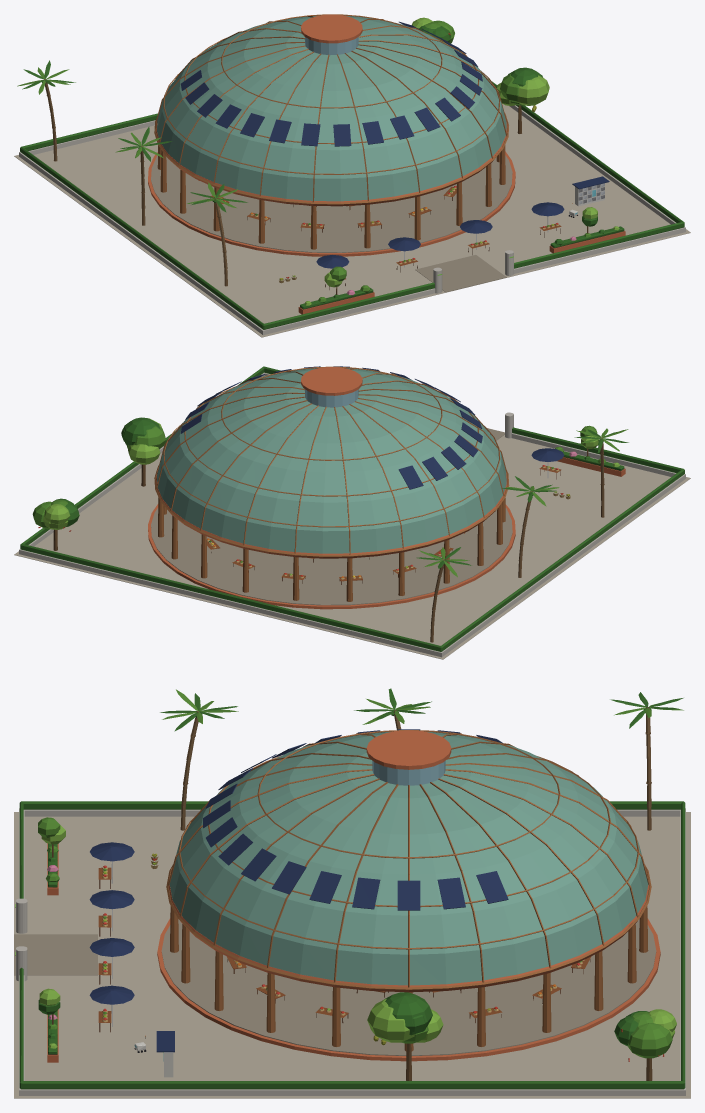
Rendered from market.glb.
3 views of the same model, one above another, from view 1: azimuth 30°, elevation 25°; view 2: azimuth 150°, elevation 25°; view 3: azimuth 270°, elevation 25° (orthographic). The views are drawn at different scales.
Visible parts, largest first — view 1: body; view 2: body; view 3: body.
Part boxes in pixels (x1=…): body: x1=14, y1=14, x2=690, y2=337; body: x1=14, y1=366, x2=690, y2=659; body: x1=14, y1=688, x2=690, y2=1098.
Size of the model in its own units: 49.12 by 16.24 by 47.9.
